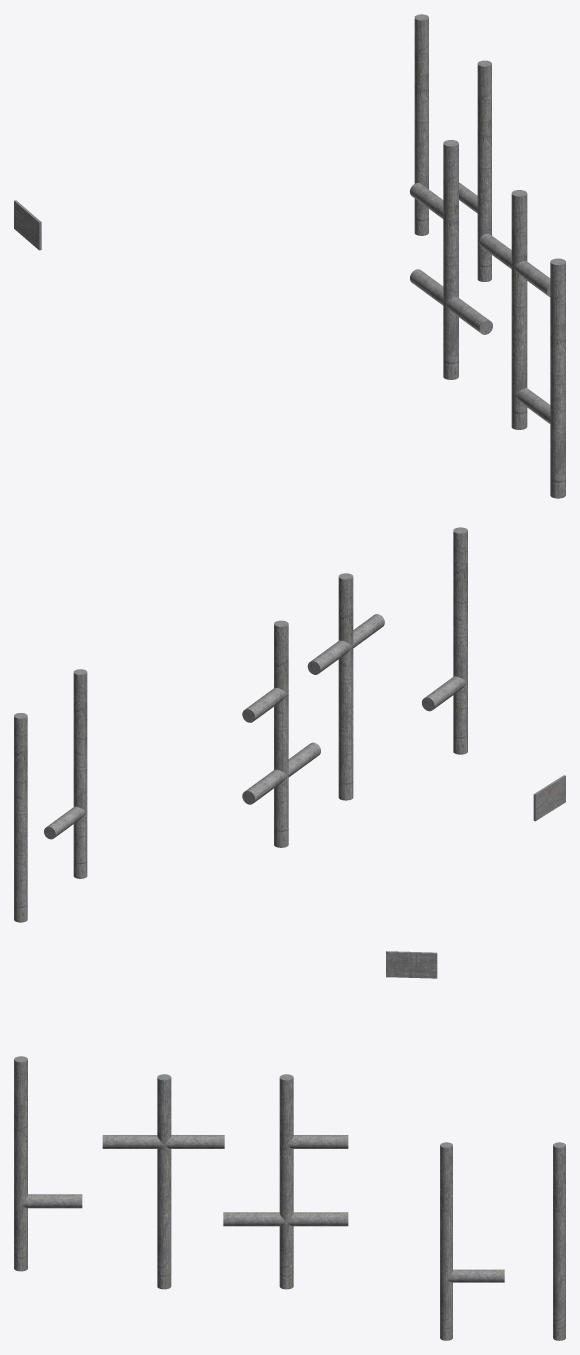
The model's file is quest_acong_buoc7.fbx.
3 renders of one model, top to bottom at view 1: azimuth 30°, elevation 25°; view 2: azimuth 150°, elevation 25°; view 3: azimuth 270°, elevation 25°, orthographic. The views are drawn at different scales.
Parts seen in each view (by area): view 1: quest_Acong_buoc7; view 2: quest_Acong_buoc7; view 3: quest_Acong_buoc7.
Boxes of the visible parts, box(x1,y1,x2,y2) form: quest_Acong_buoc7: box(14, 14, 565, 498); quest_Acong_buoc7: box(14, 527, 565, 922); quest_Acong_buoc7: box(14, 951, 565, 1340).
Bounding box in the file's own units: 1072 × 493 × 1179.
1 material, 1 textured.
